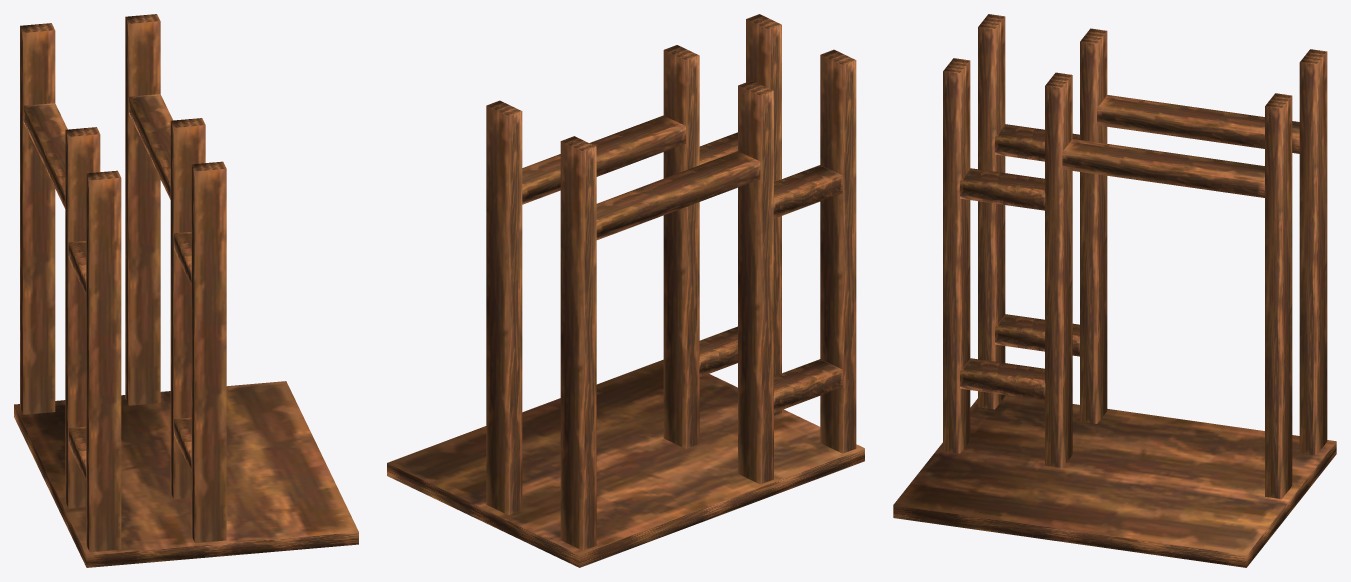
File: SWORDLIGHT20_PLATB_LOD1_04.fbx
3 renders of one model, left to right at view 1: azimuth 30°, elevation 25°; view 2: azimuth 150°, elevation 25°; view 3: azimuth 270°, elevation 25°, orthographic. The views are drawn at different scales.
Parts seen in each view (by area): view 1: SWORDLIGHT20_PLATB_LOD1_04; view 2: SWORDLIGHT20_PLATB_LOD1_04; view 3: SWORDLIGHT20_PLATB_LOD1_04.
Part boxes in pixels (x1=…): SWORDLIGHT20_PLATB_LOD1_04: x1=14, y1=14, x2=358, y2=567; SWORDLIGHT20_PLATB_LOD1_04: x1=387, y1=14, x2=864, y2=567; SWORDLIGHT20_PLATB_LOD1_04: x1=893, y1=14, x2=1336, y2=567.
Bounding box in the file's own units: 25297 × 29035 × 28940.
1 material, 1 textured.
